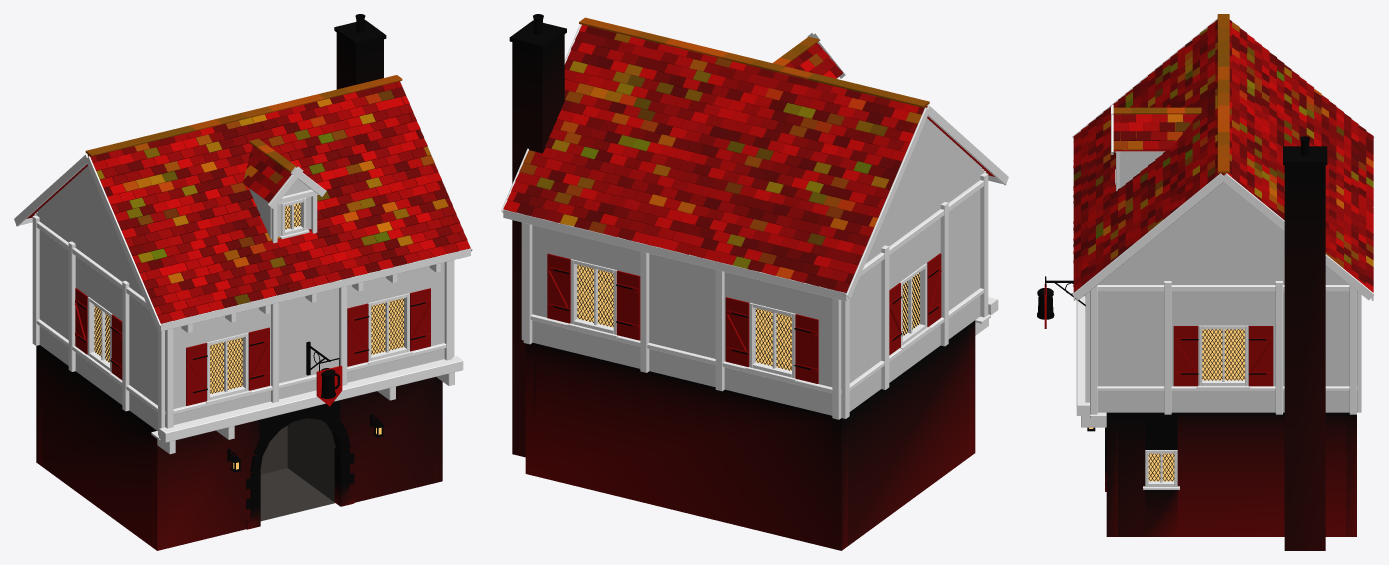
Rendered from SilverbrookGildedTankard.fbx.
3 views of the same model, side by side, from view 1: azimuth 30°, elevation 25°; view 2: azimuth 150°, elevation 25°; view 3: azimuth 270°, elevation 25° (orthographic). The views are drawn at different scales.
Parts seen in each view (by area): view 1: SM_SBGildedTankard_Roof, SM_SBGildedTankard_Masonry, SM_SBGildedTankard_Plaster, SM_SBGildedTankard_Timber, SM_SBGildedTankard_Details, SM_SBGildedTankard_EntryRooms; view 2: SM_SBGildedTankard_Roof, SM_SBGildedTankard_Masonry, SM_SBGildedTankard_Plaster, SM_SBGildedTankard_Timber, SM_SBGildedTankard_Details; view 3: SM_SBGildedTankard_Roof, SM_SBGildedTankard_Masonry, SM_SBGildedTankard_Plaster, SM_SBGildedTankard_Timber, SM_SBGildedTankard_Details.
Boxes of the visible parts, <box> form: SM_SBGildedTankard_Roof: <box>26,75,470,323</box>; SM_SBGildedTankard_Masonry: <box>36,20,442,550</box>; SM_SBGildedTankard_Plaster: <box>36,166,444,430</box>; SM_SBGildedTankard_Timber: <box>14,81,472,454</box>; SM_SBGildedTankard_Details: <box>75,14,430,472</box>; SM_SBGildedTankard_EntryRooms: <box>260,418,335,521</box>; SM_SBGildedTankard_Roof: <box>503,17,994,292</box>; SM_SBGildedTankard_Masonry: <box>509,20,975,550</box>; SM_SBGildedTankard_Plaster: <box>532,118,984,417</box>; SM_SBGildedTankard_Timber: <box>501,24,1008,419</box>; SM_SBGildedTankard_Details: <box>533,14,941,383</box>; SM_SBGildedTankard_Roof: <box>1073,14,1373,292</box>; SM_SBGildedTankard_Masonry: <box>1105,146,1356,550</box>; SM_SBGildedTankard_Plaster: <box>1097,151,1349,412</box>; SM_SBGildedTankard_Timber: <box>1072,18,1374,489</box>; SM_SBGildedTankard_Details: <box>1037,136,1310,481</box>.
Bounding box in the file's own units: 1059 × 1207 × 911.
